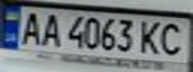0: (81, 15, 103, 51)
3: (115, 16, 139, 53)
4: (63, 12, 87, 50)
6: (100, 15, 121, 52)
A: (15, 9, 45, 46), (39, 10, 63, 47)
C: (154, 20, 190, 56)
K: (136, 18, 166, 55)
